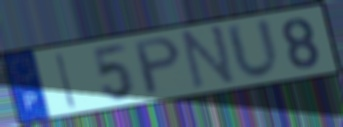5: (88, 40, 139, 103)
8: (281, 16, 323, 70)
I: (54, 50, 78, 112)
N: (180, 23, 238, 92)
P: (133, 35, 184, 99)
U: (223, 15, 282, 82)
